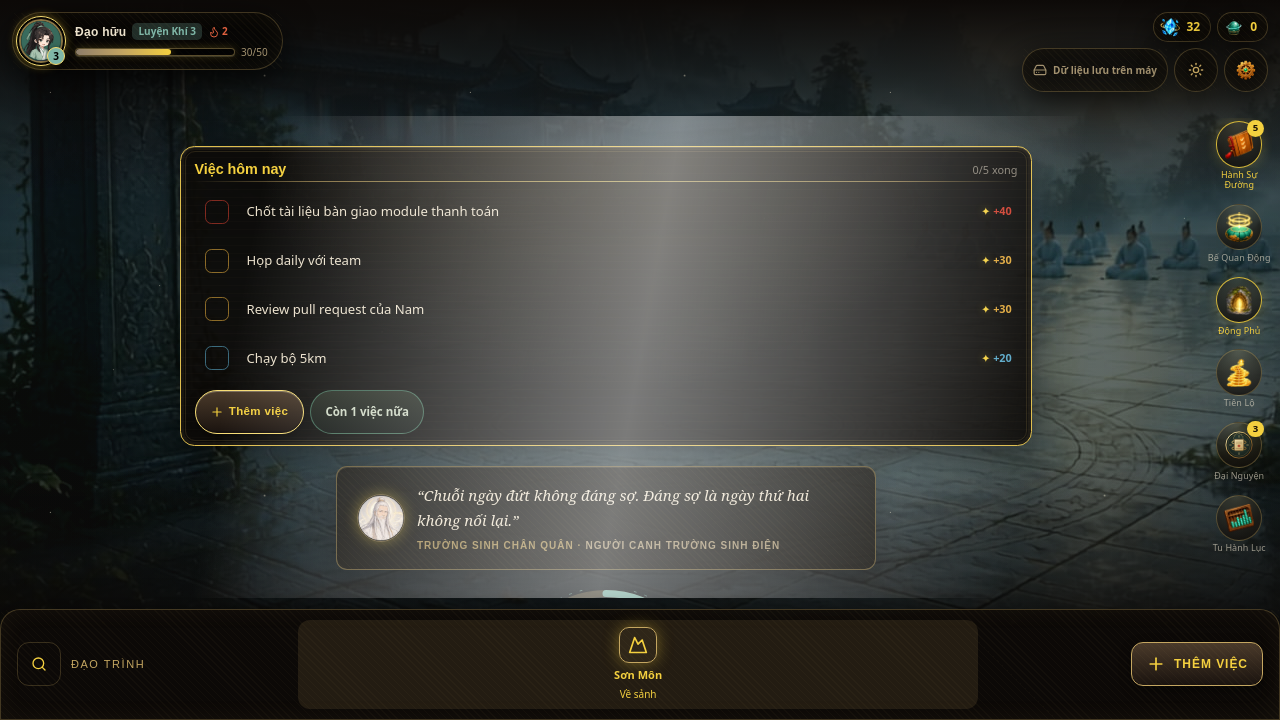
Ứng dụng web › mở được bảng Tiên Lộ với bậc thang cảnh giới và kỳ ngộ
The width and height of the screenshot is (1280, 720).
Click the button "Tiên Lộ" at [1239, 379], box [1206,346,1272,412]
(page scrolled)
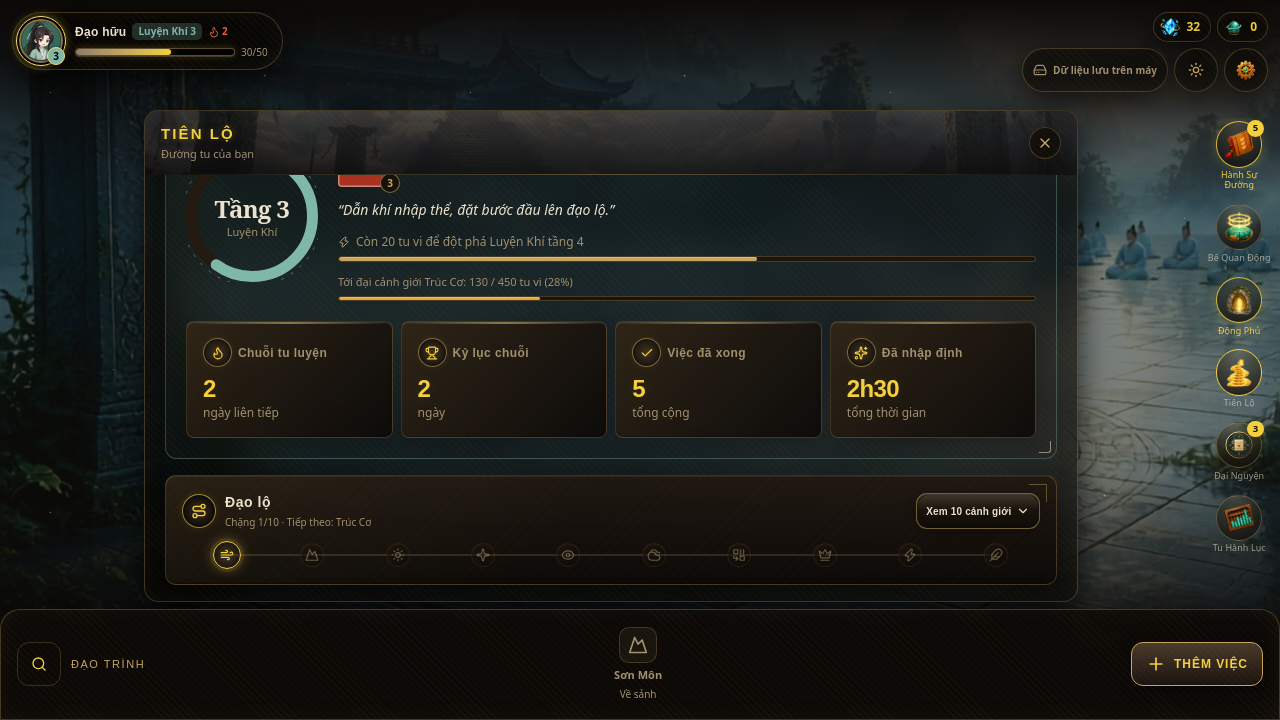
Check: the heading "Tiên Lộ" is shown, box [161,125,235,142]
Click the button "Xem 10 cảnh giới" at [978, 511], box [916,493,1040,529]
(page scrolled)
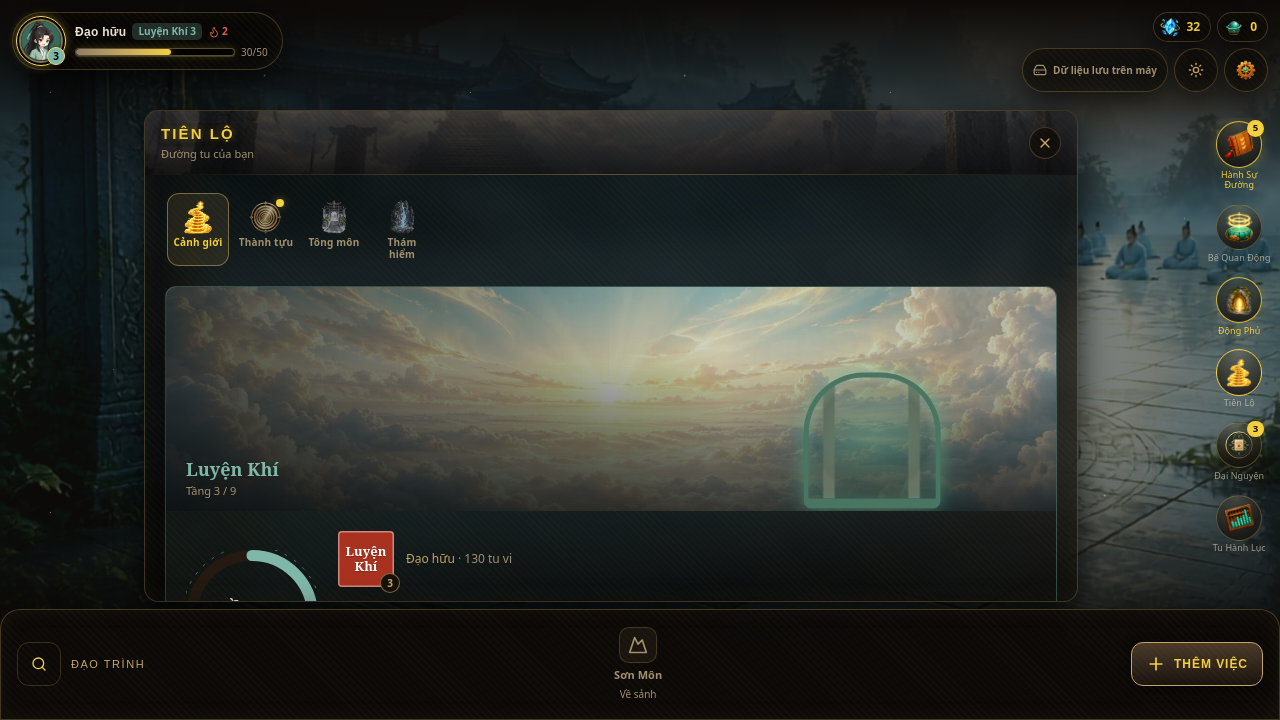
Click the tab "Thành tựu" at [266, 230], box [235,193,297,266]
(page scrolled)
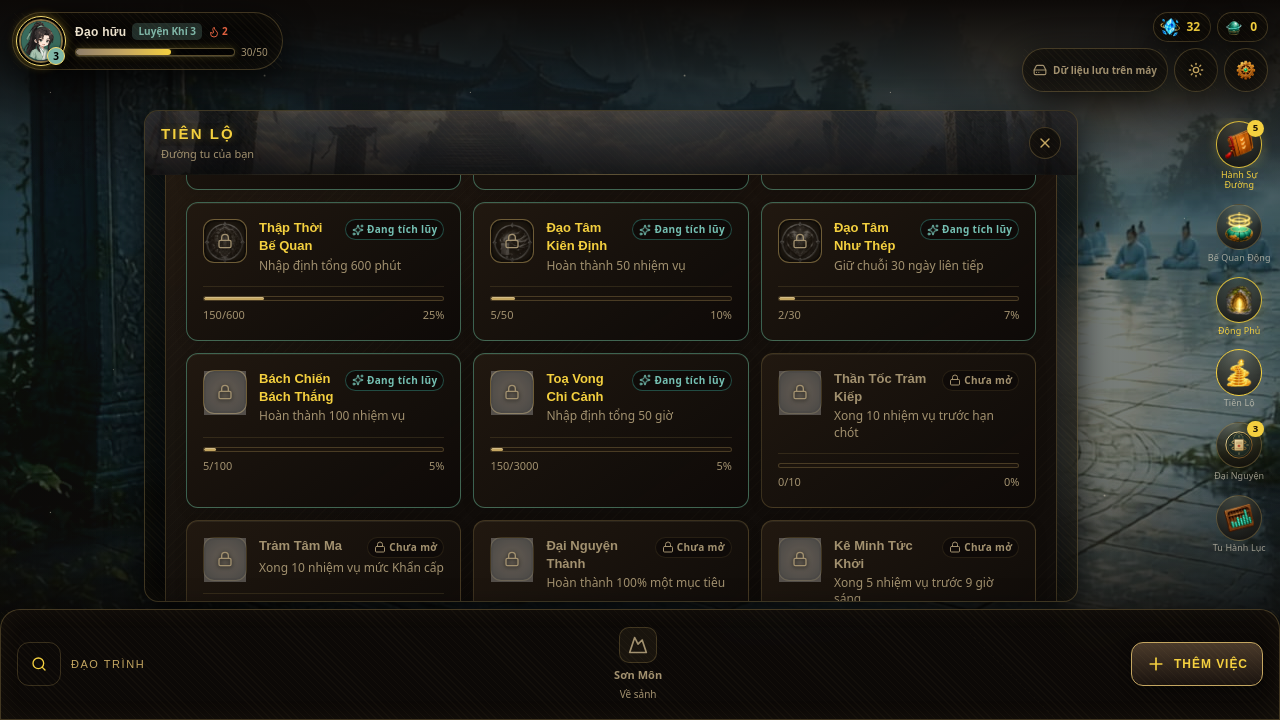
Check: the text "Toạ Vong Chi Cảnh" is shown, box [546,371,604,404]
